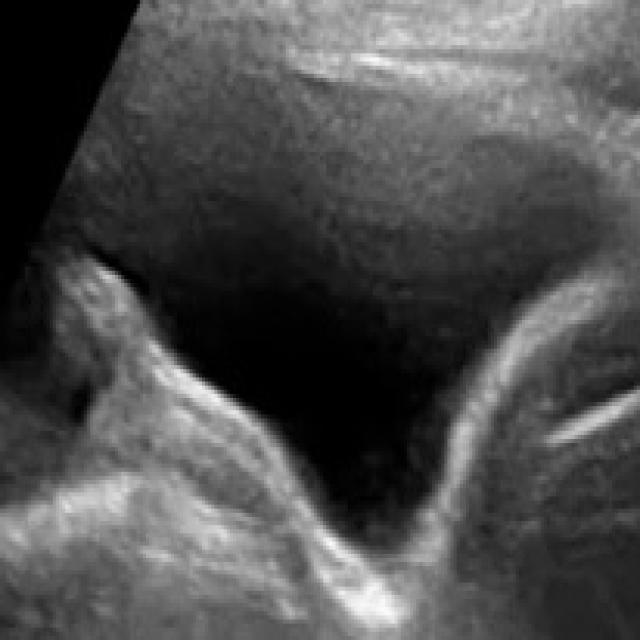bladder: (45, 13, 627, 598)
